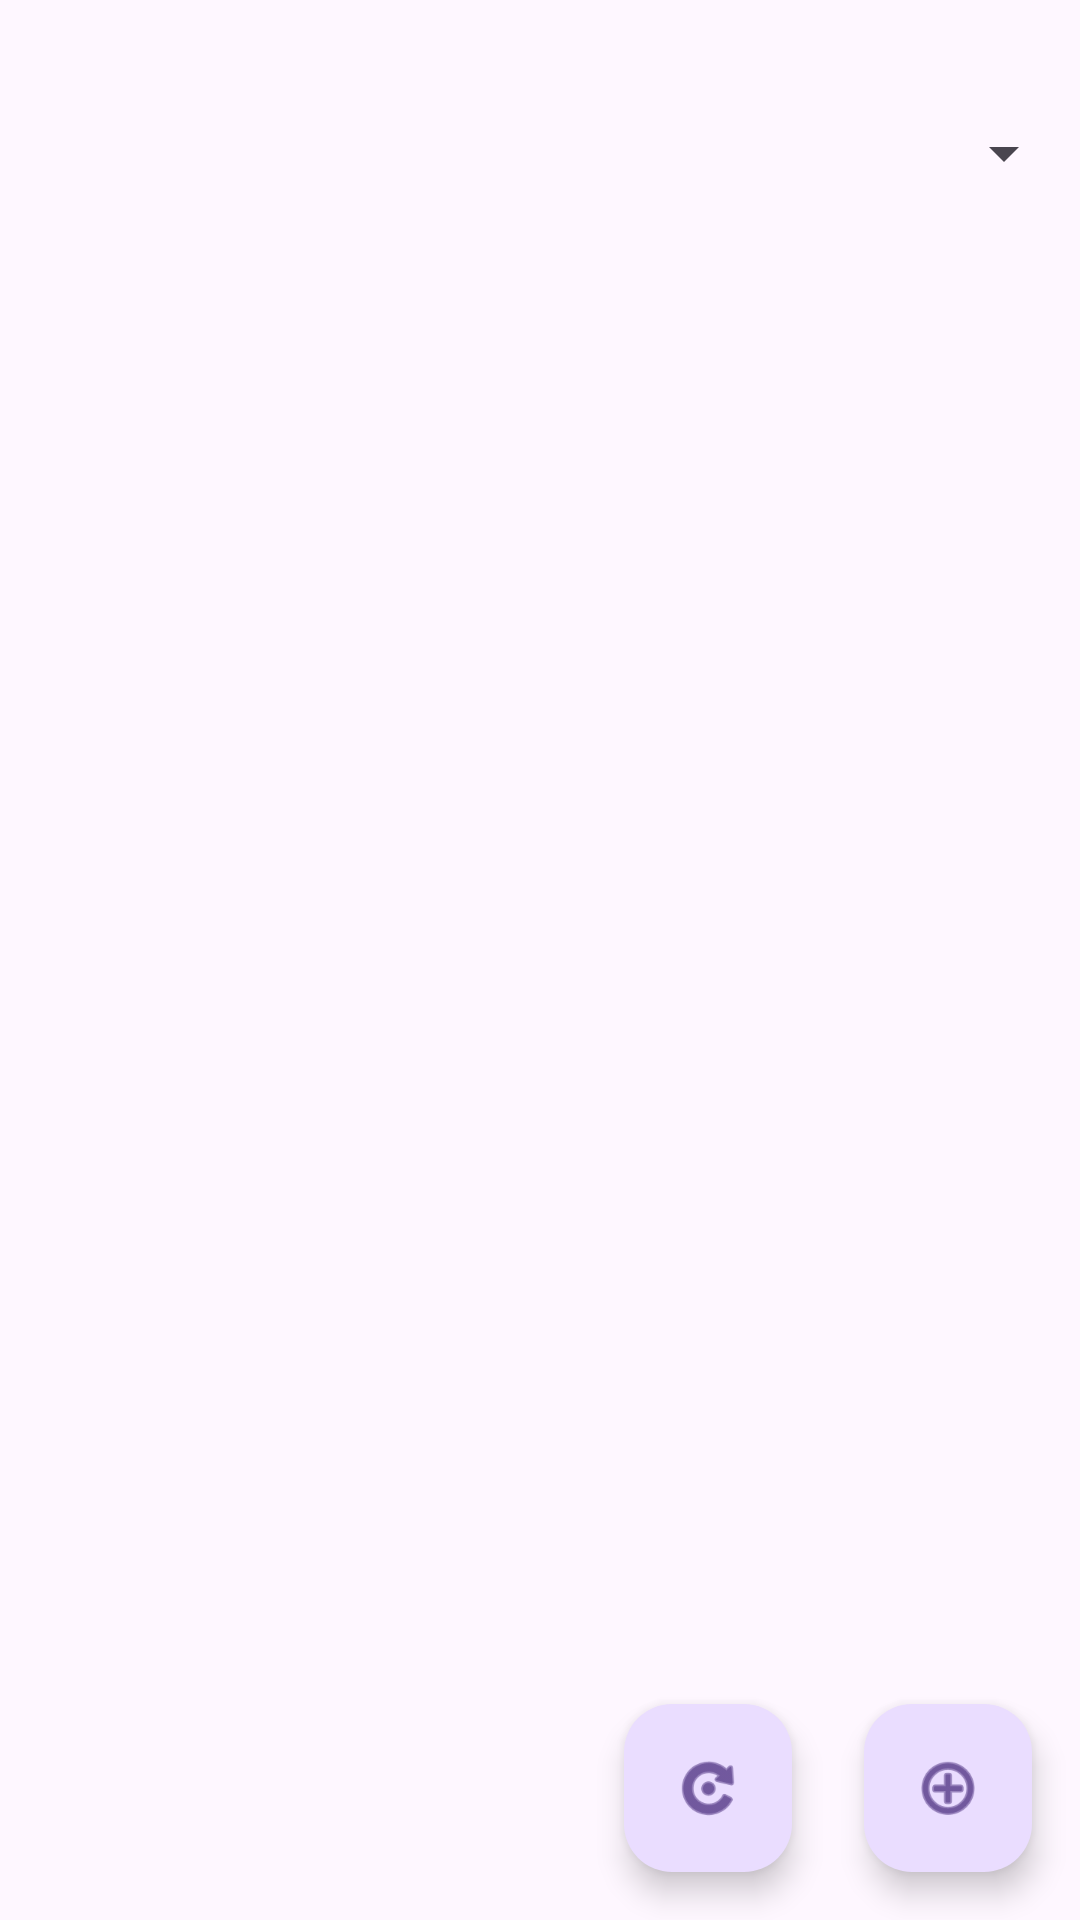

Icon click points for this 1080px×1920px phone screenshot, format (x,y):
add: (948,1788)
rotate: (708,1788)
